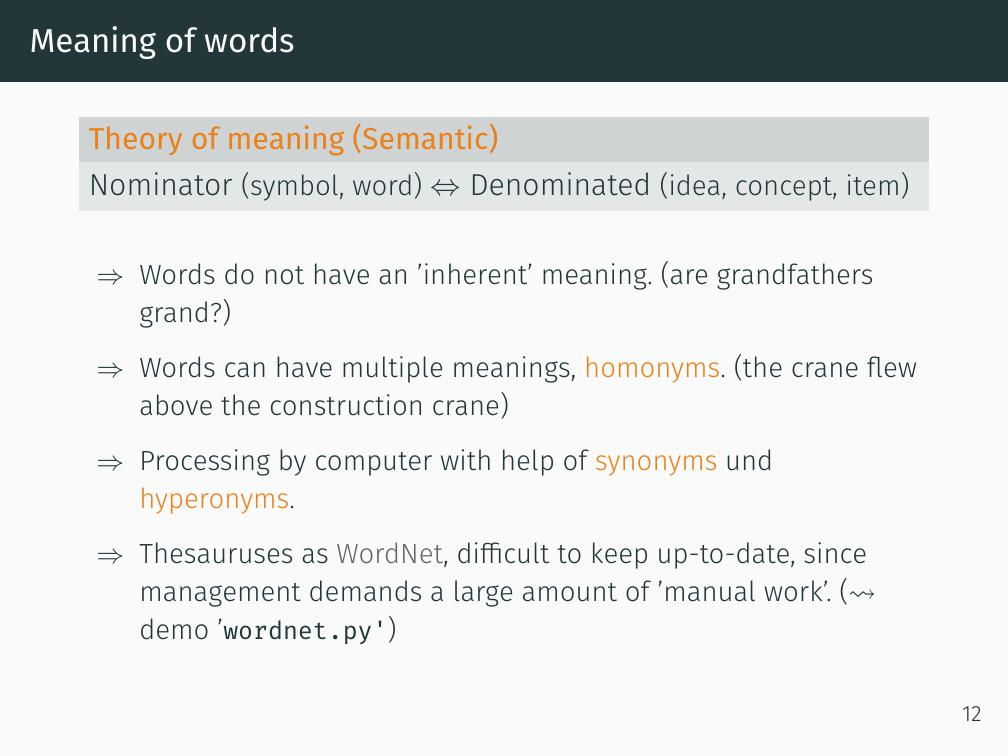Title: (23, 21, 302, 64)
